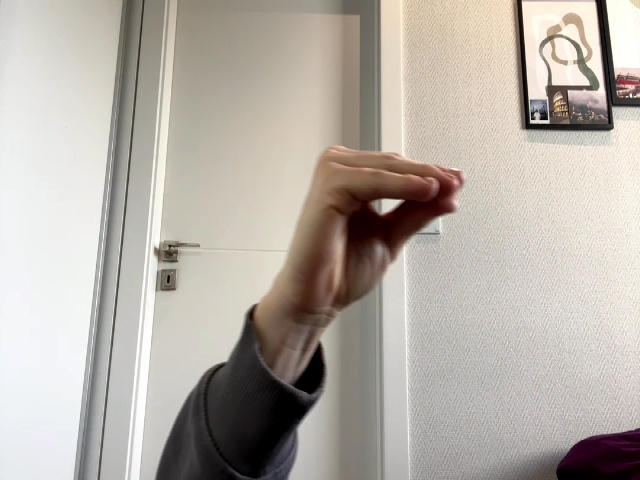E: (278, 146, 466, 320)
